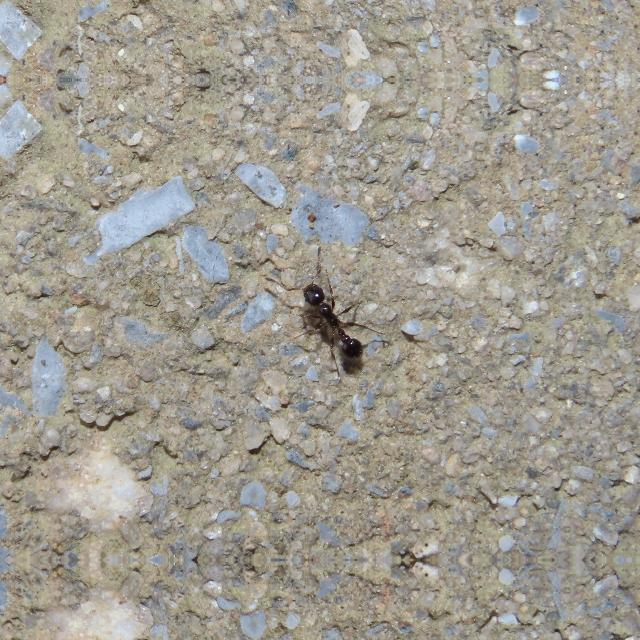Temnothorax: (291, 270, 384, 372)
